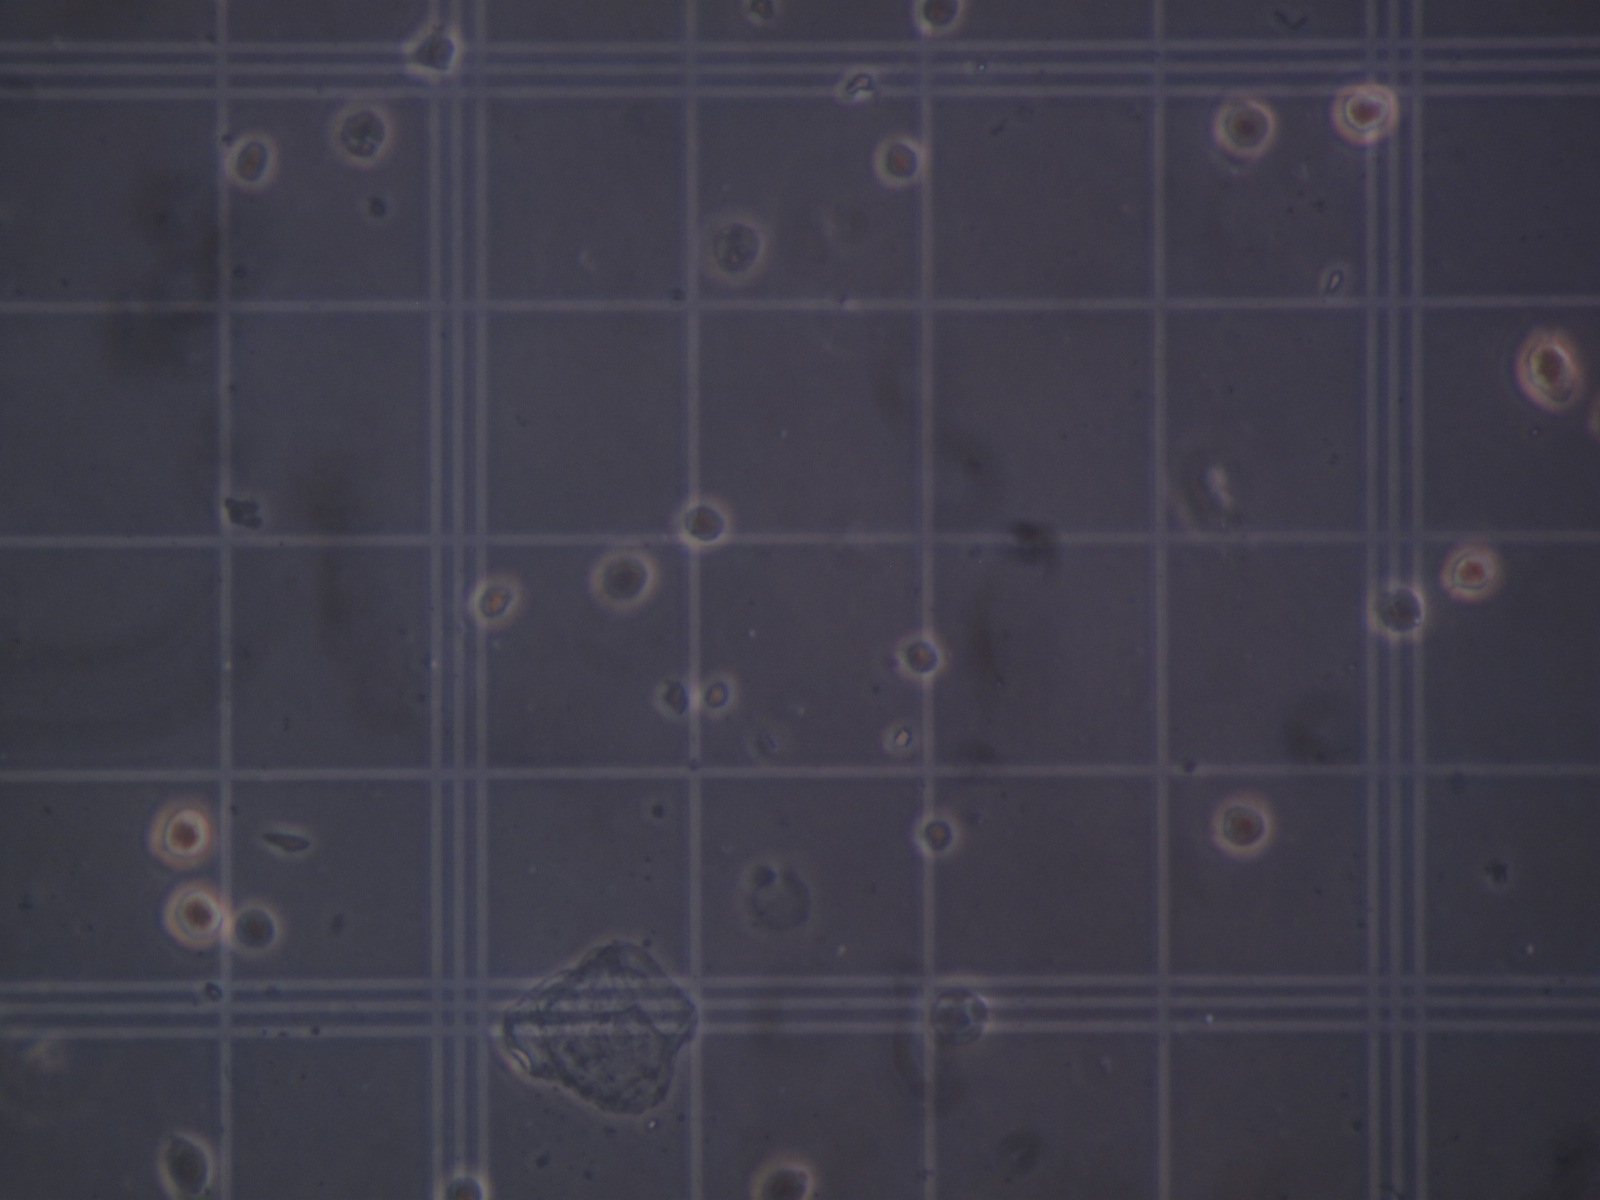hemo: (922, 973, 997, 1058), (1516, 332, 1581, 411), (147, 795, 217, 870), (700, 211, 769, 284), (163, 882, 231, 949), (155, 1129, 219, 1200), (590, 548, 656, 611), (330, 101, 393, 168), (1330, 83, 1400, 144), (1211, 794, 1272, 857), (1213, 96, 1276, 158), (1368, 581, 1427, 640), (1441, 545, 1500, 600), (403, 25, 462, 78), (229, 900, 283, 957), (226, 132, 277, 190), (677, 495, 731, 550), (750, 1158, 820, 1200), (873, 134, 925, 189), (469, 574, 522, 626), (896, 632, 945, 679), (913, 811, 960, 858), (912, 1, 965, 37), (654, 676, 695, 720), (699, 672, 736, 716), (440, 1170, 491, 1200), (1587, 387, 1600, 446)
